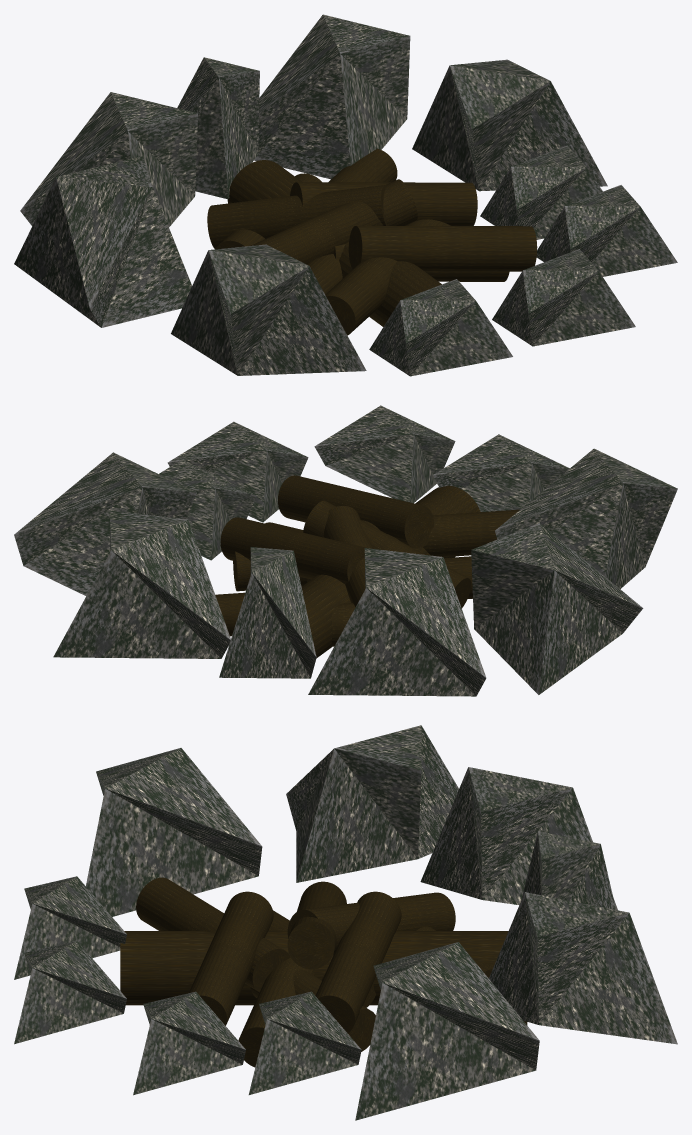
Rendered from FullFire.obj.
3 views of the same model, one above another, from view 1: azimuth 30°, elevation 25°; view 2: azimuth 150°, elevation 25°; view 3: azimuth 270°, elevation 25° (orthographic). The views are drawn at different scales.
Visible parts, largest first — view 1: Cube.007_Cube.008, Cylinder.001; view 2: Cube.007_Cube.008, Cylinder.001; view 3: Cube.007_Cube.008, Cylinder.001.
Boxes of the visible parts, bbox=[...] form: Cube.007_Cube.008: bbox=[14, 14, 677, 376]; Cylinder.001: bbox=[207, 148, 537, 335]; Cube.007_Cube.008: bbox=[14, 405, 677, 696]; Cylinder.001: bbox=[215, 475, 519, 658]; Cube.007_Cube.008: bbox=[14, 725, 677, 1120]; Cylinder.001: bbox=[120, 877, 527, 1067].
Size of the model in its own units: 11.23 by 2.85 by 10.92.
